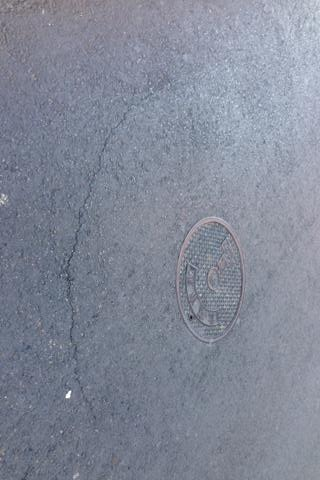A: (52, 96, 140, 426)
